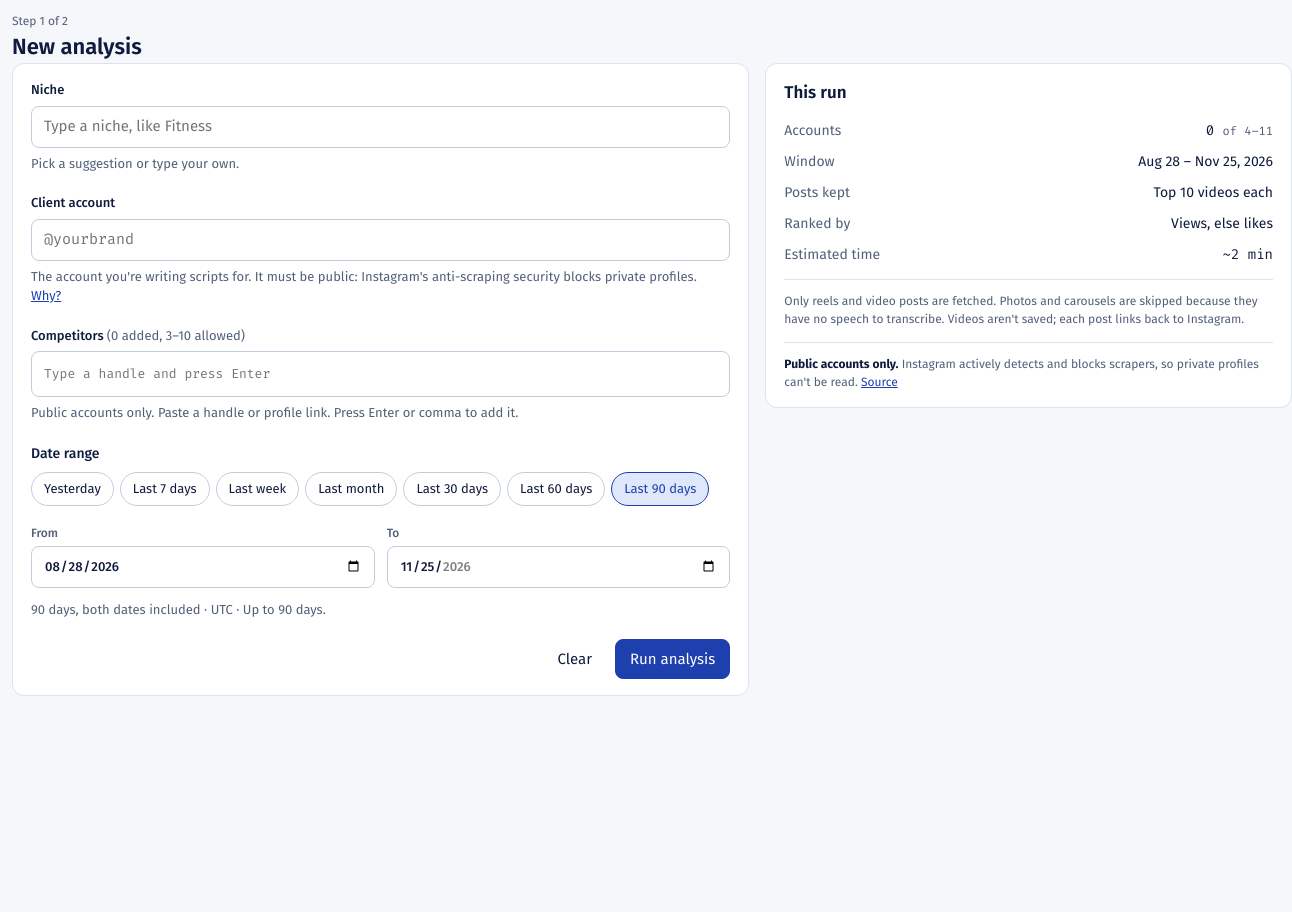
Test: NewRunForm › adds several tags from a paste
Step 1. Click the field with placeholder "Type a handle and press Enter" → [381, 374], box [38,358,723,390]
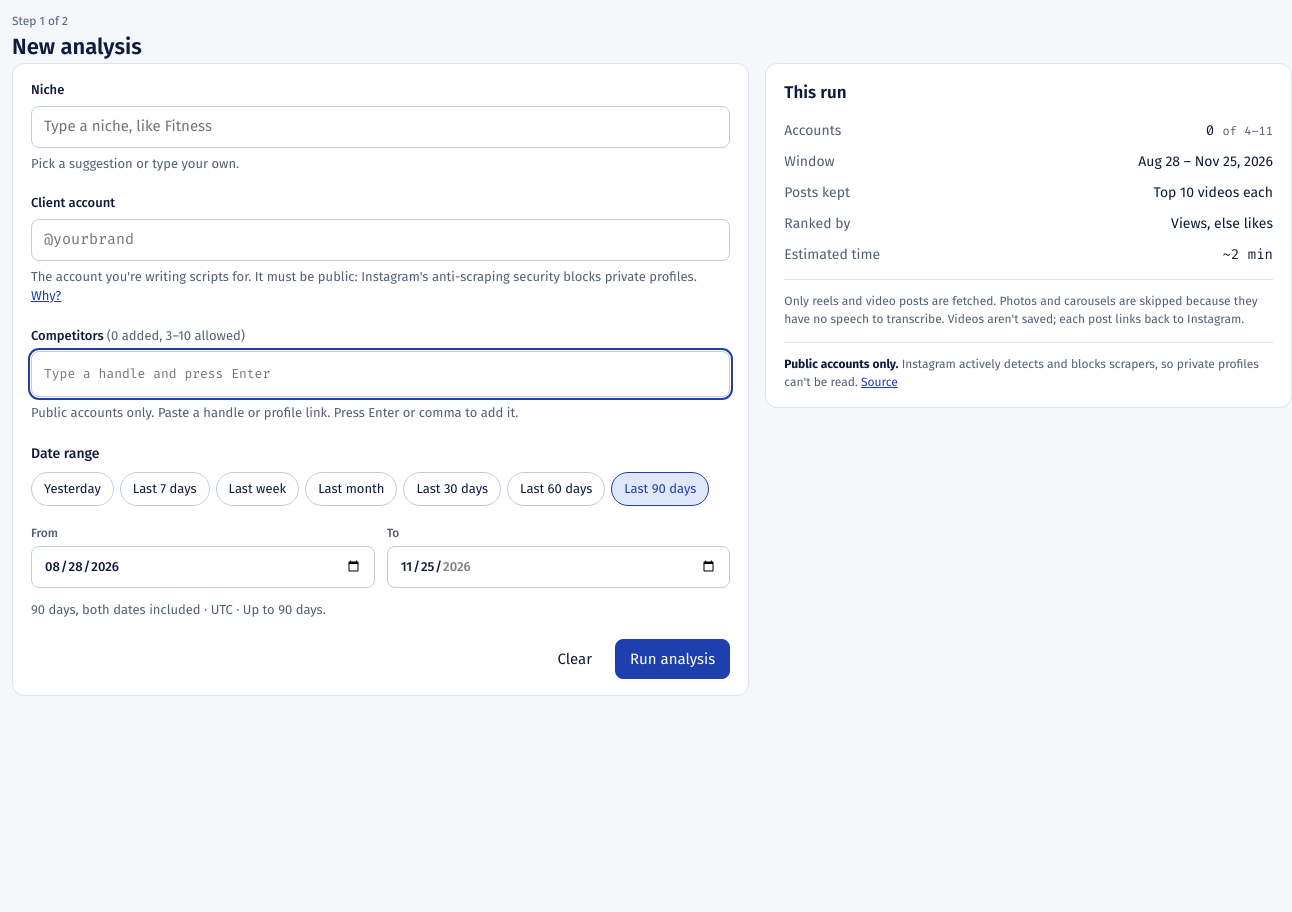
Step 2. Type keys "a, b c"
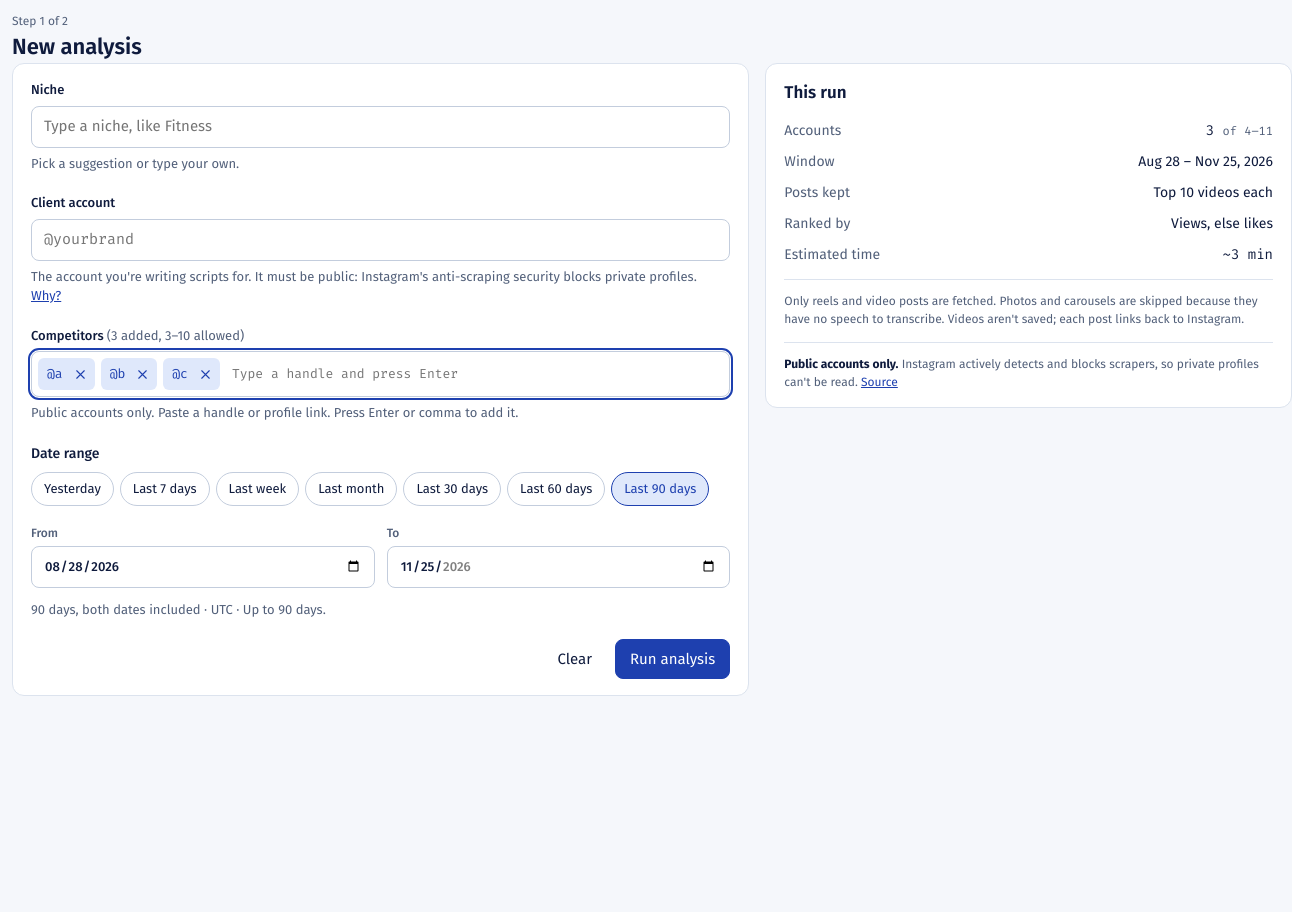
Result: the number of buttons named "Remove @" is 3 at [67,362,91,386]; [129,362,153,386]; [192,362,216,386]
